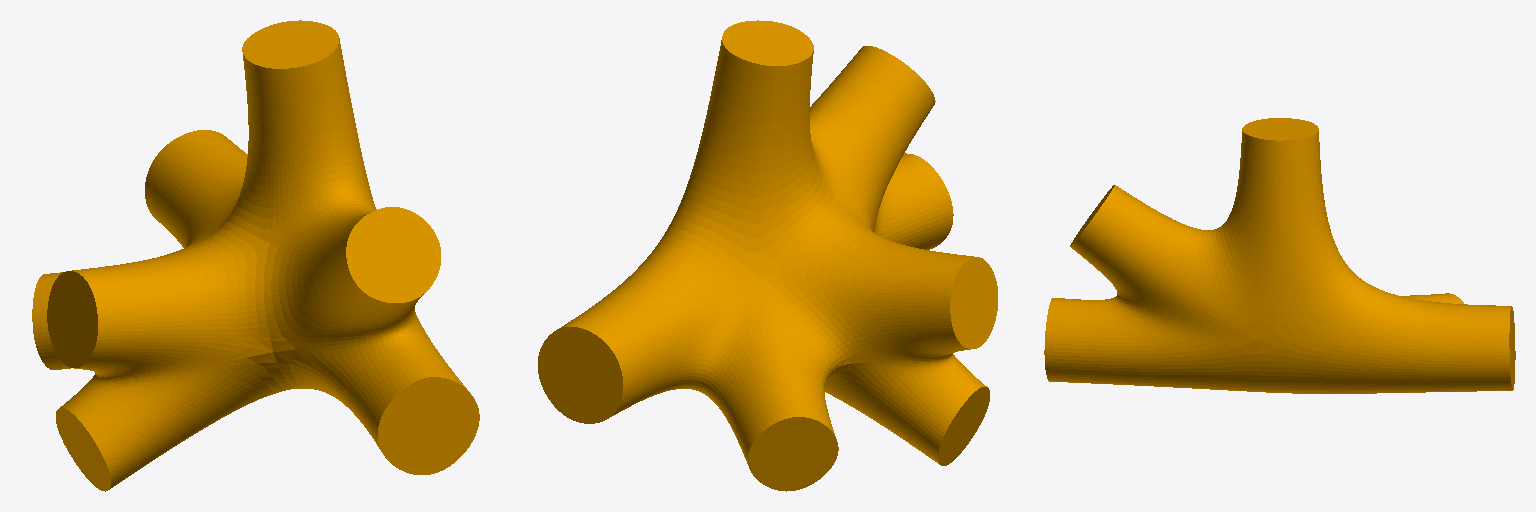
robot.urdf — object:
<robot name="object">
  <link name="object">
    <visual>
      <origin xyz="0 0 0"/>
      <geometry>
        <mesh filename="visual.obj" scale="1 1 1"/>
      </geometry>
    </visual>
    <collision>
      <origin xyz="0 0 0"/>
      <geometry>
        <mesh filename="visual.obj" scale="1 1 1"/>
      </geometry>
    </collision>
    <inertial>
      <mass value="0.05"/>
      <inertia ixx="0.00016111766915085998" iyy="9.582865044048765e-05" izz="0.00016305962486797498" ixy="1.6294230399537173e-07" ixz="-1.4721954115495908e-05" iyz="1.6204387755653903e-05"/>
    </inertial>
  </link>
</robot>

--- Render facts (derived) ---
Views: 3 orthographic renders of the robot side by side, from view 1: azimuth 30°, elevation 25°; view 2: azimuth 150°, elevation 25°; view 3: azimuth 270°, elevation 25°.
Model object with 1 links and 0 joints (none), rooted at object, posed all joints at 0.
Visible links, largest first — view 1: object; view 2: object; view 3: object.
Link boxes in pixels (x1,y1,x2,y2): object: [32, 20, 479, 491]; object: [538, 20, 997, 491]; object: [1044, 118, 1515, 393].
Size in the robot's own frame: 0.1452 by 0.2346 by 0.1733 metres.
1 mesh visuals loaded from 1 distinct referenced files (1 OBJ).
